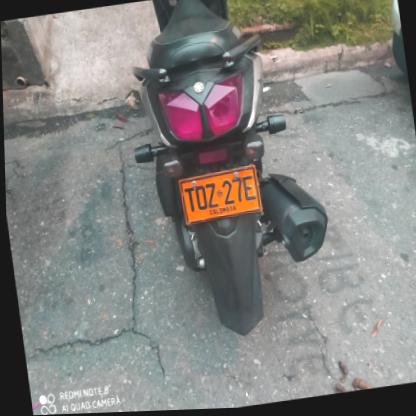placa: (171, 162, 265, 231)
